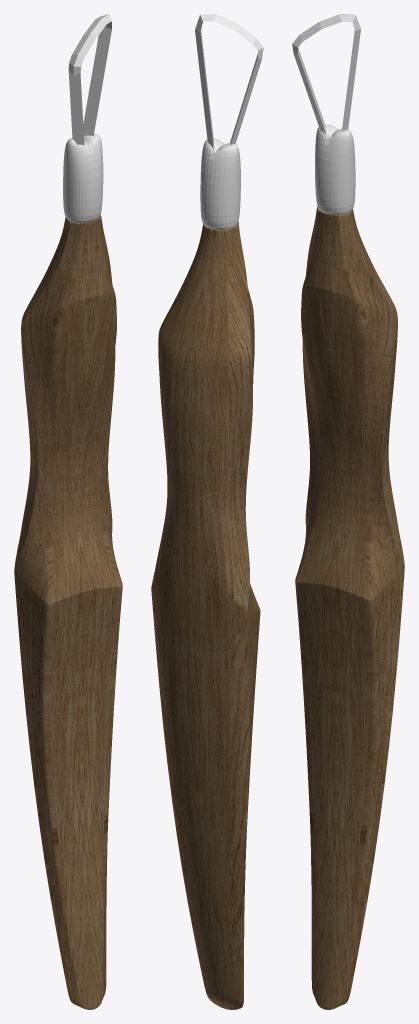
File: trimming tool(1).glb
3 renders of one model, left to right at view 1: azimuth 30°, elevation 25°; view 2: azimuth 150°, elevation 25°; view 3: azimuth 330°, elevation 25°, orthographic.
Parts seen in each view (by area): view 1: Plane, Plane.001; view 2: Plane, Plane.001; view 3: Plane, Plane.001.
Boxes of the visible parts, box(x1,y1,x2,y2) form: Plane: box(14, 133, 122, 1009); Plane.001: box(68, 14, 111, 145); Plane: box(151, 138, 260, 1009); Plane.001: box(195, 14, 263, 149); Plane: box(295, 124, 404, 1009); Plane.001: box(292, 14, 360, 134).
Bounding box in the file's own units: 0.3422 × 3.38 × 0.32.
Materials: 2 (1 with a texture image).
